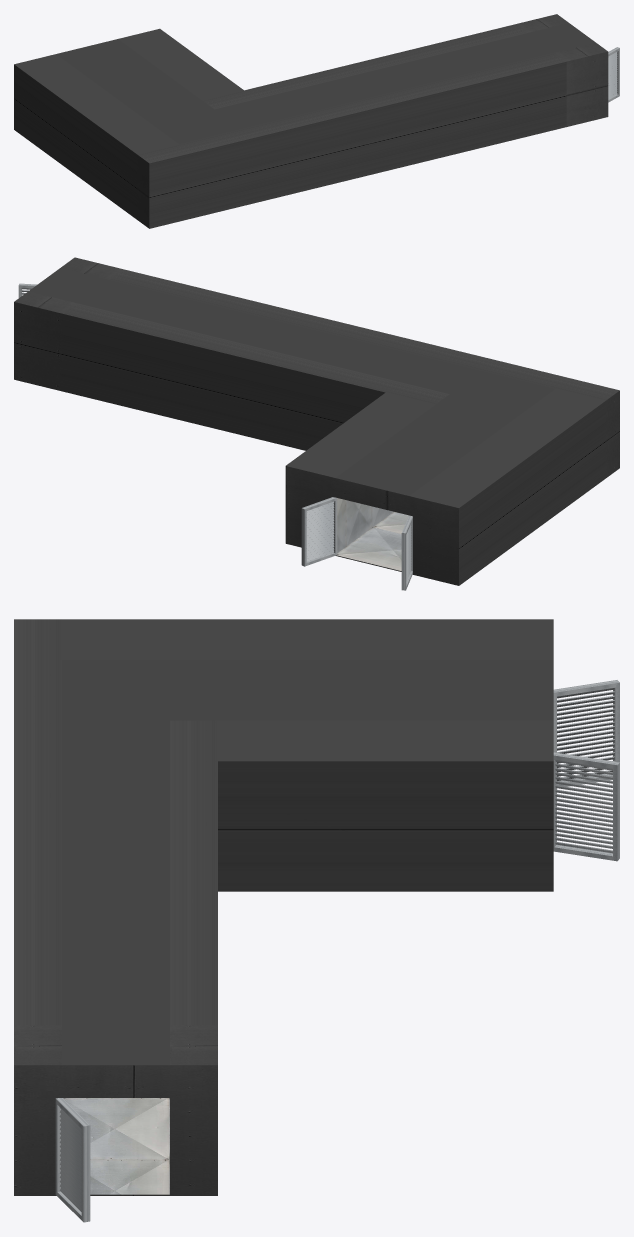
Rendered from Vent3.fbx.
The picture shows the model from 3 angles, top to bottom: view 1: azimuth 30°, elevation 25°; view 2: azimuth 150°, elevation 25°; view 3: azimuth 270°, elevation 25°; orthographic projection. The views are drawn at different scales.
Parts seen in each view (by area): view 1: Cube.002; view 2: Cube.002, Cube.044, Cube.045; view 3: Cube.002, Cube, Cube.044, Cube.045.
Boxes of the visible parts, bbox=[...] form: Cube.002: bbox=[14, 14, 608, 228]; Cube.002: bbox=[14, 257, 619, 585]; Cube.044: bbox=[301, 497, 337, 566]; Cube.045: bbox=[401, 515, 412, 590]; Cube.002: bbox=[14, 619, 553, 1195]; Cube: bbox=[55, 1098, 90, 1222]; Cube.044: bbox=[553, 752, 619, 861]; Cube.045: bbox=[553, 680, 619, 786].
Bounding box in the file's own units: 4681 × 600 × 2526.
